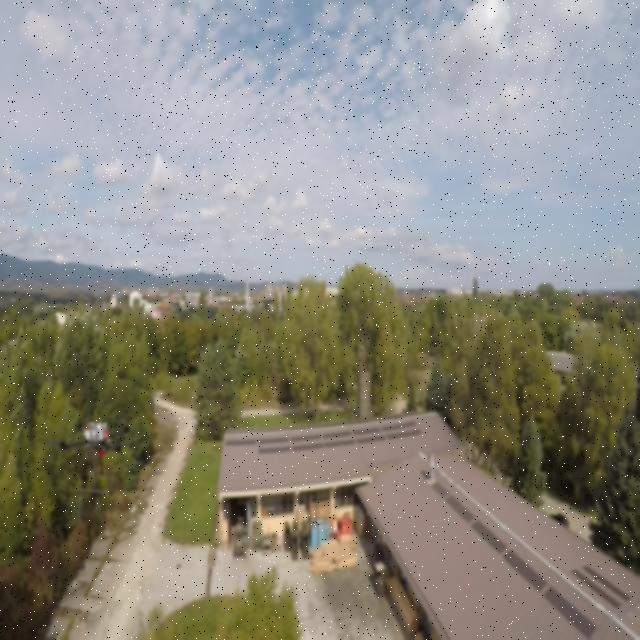UAV: (58, 414, 132, 495)
